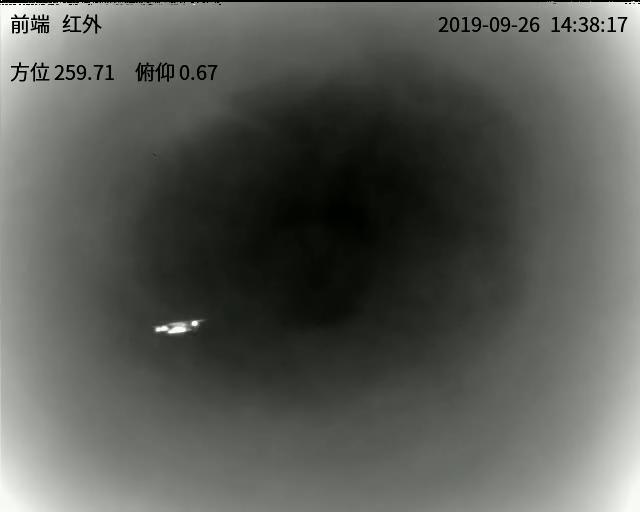uav: (146, 312, 209, 341)
